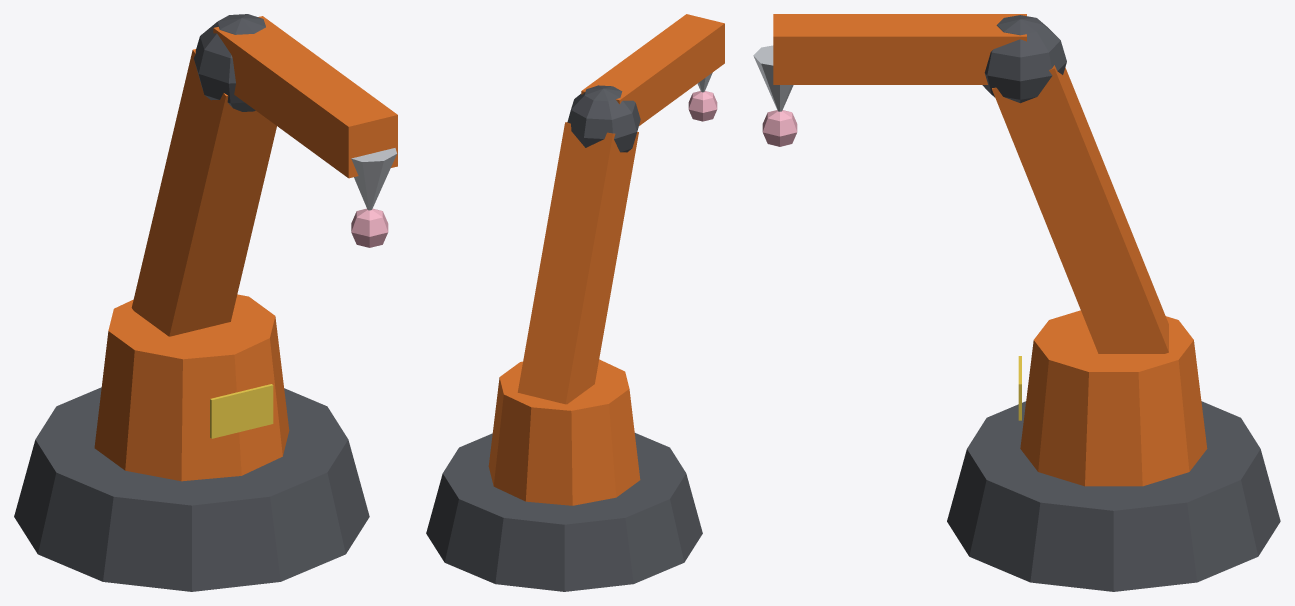
Rendered from robot_arm.glb.
The picture shows the model from 3 angles, left to right: view 1: azimuth 30°, elevation 25°; view 2: azimuth 150°, elevation 25°; view 3: azimuth 270°, elevation 25°; orthographic projection. The views are drawn at different scales.
Visible parts, largest first — view 1: base_robot_grey, turret_robot_orange, lower_robot_orange, upper_robot_orange, elbow_robot_grey, tag_logo_yellow, nozzle_steel_spoon, cream_frosting_pink; view 2: base_robot_grey, lower_robot_orange, turret_robot_orange, upper_robot_orange, elbow_robot_grey, cream_frosting_pink; view 3: base_robot_grey, turret_robot_orange, lower_robot_orange, upper_robot_orange, elbow_robot_grey, cream_frosting_pink, nozzle_steel_spoon.
Part boxes in pixels (x1=…): base_robot_grey: x1=14, y1=387, x2=369, y2=591; turret_robot_orange: x1=94, y1=294, x2=289, y2=481; lower_robot_orange: x1=131, y1=49, x2=276, y2=336; upper_robot_orange: x1=213, y1=16, x2=397, y2=178; elbow_robot_grey: x1=193, y1=14, x2=265, y2=111; tag_logo_yellow: x1=210, y1=384, x2=273, y2=438; nozzle_steel_spoon: x1=351, y1=148, x2=397, y2=210; cream_frosting_pink: x1=351, y1=208, x2=388, y2=247; base_robot_grey: x1=426, y1=433, x2=702, y2=591; lower_robot_orange: x1=517, y1=122, x2=638, y2=404; turret_robot_orange: x1=488, y1=359, x2=640, y2=505; upper_robot_orange: x1=581, y1=14, x2=724, y2=125; elbow_robot_grey: x1=567, y1=85, x2=640, y2=152; cream_frosting_pink: x1=688, y1=91, x2=717, y2=121; base_robot_grey: x1=947, y1=401, x2=1280, y2=591; turret_robot_orange: x1=1020, y1=310, x2=1207, y2=486; lower_robot_orange: x1=992, y1=65, x2=1168, y2=353; upper_robot_orange: x1=773, y1=14, x2=1026, y2=84; elbow_robot_grey: x1=982, y1=15, x2=1066, y2=103; cream_frosting_pink: x1=762, y1=110, x2=797, y2=146; nozzle_steel_spoon: x1=753, y1=45, x2=793, y2=111.
Size of the model in its own units: 0.5 by 0.83 by 0.79.
